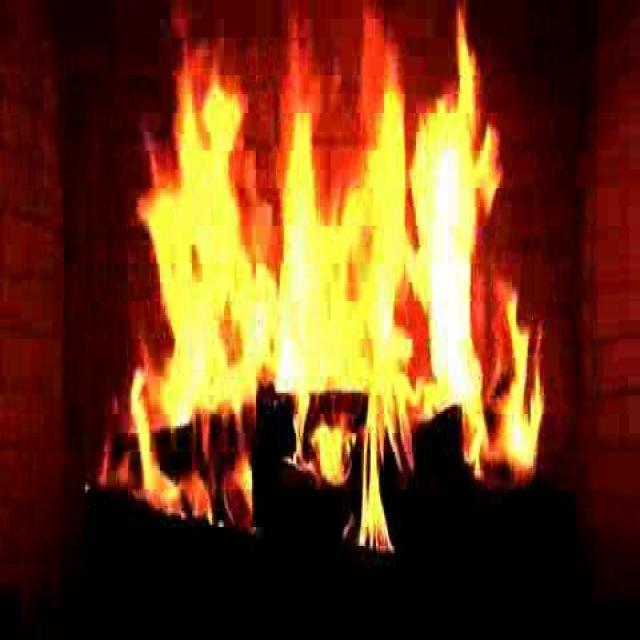Fire: (136, 42, 523, 535)
